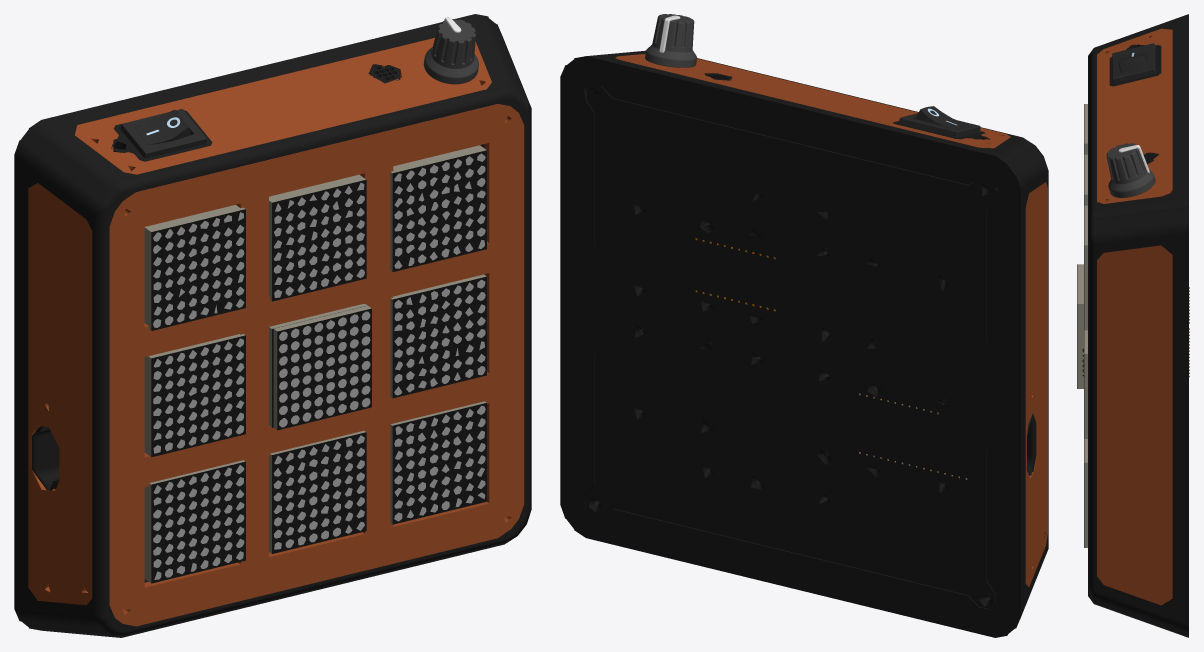
3 renders of one model, left to right at view 1: azimuth 30°, elevation 25°; view 2: azimuth 150°, elevation 25°; view 3: azimuth 270°, elevation 25°, orthographic. The views are drawn at different scales.
Parts seen in each view (by area): view 1: top-panel, Body1:60, Body1:84, Body3:3, Body5:2, Body1:82, Body1:77; view 2: Body1:84, top-panel, Body1:82, Body1:77; view 3: top-panel, Body1:84, Body5:2, Body1:82, Body1:77, Body1:60.
Boxes of the visible parts, <box> form: top-panel: <box>28,38,524,626</box>; Body1:60: <box>151,144,486,583</box>; Body1:84: <box>14,14,531,637</box>; Body3:3: <box>153,153,485,579</box>; Body5:2: <box>144,145,486,582</box>; Body1:82: <box>423,17,478,84</box>; Body1:77: <box>120,109,206,158</box>; Body1:84: <box>560,50,1048,637</box>; top-panel: <box>615,54,1047,586</box>; Body1:82: <box>645,14,696,67</box>; Body1:77: <box>899,106,980,137</box>; top-panel: <box>1097,28,1172,605</box>; Body1:84: <box>1088,14,1188,637</box>; Body5:2: <box>1077,104,1087,547</box>; Body1:82: <box>1106,143,1155,197</box>; Body1:77: <box>1112,43,1156,83</box>; Body1:60: <box>1077,104,1084,547</box>.
Size of the model in its own units: 16.45 by 17.48 by 3.82.
